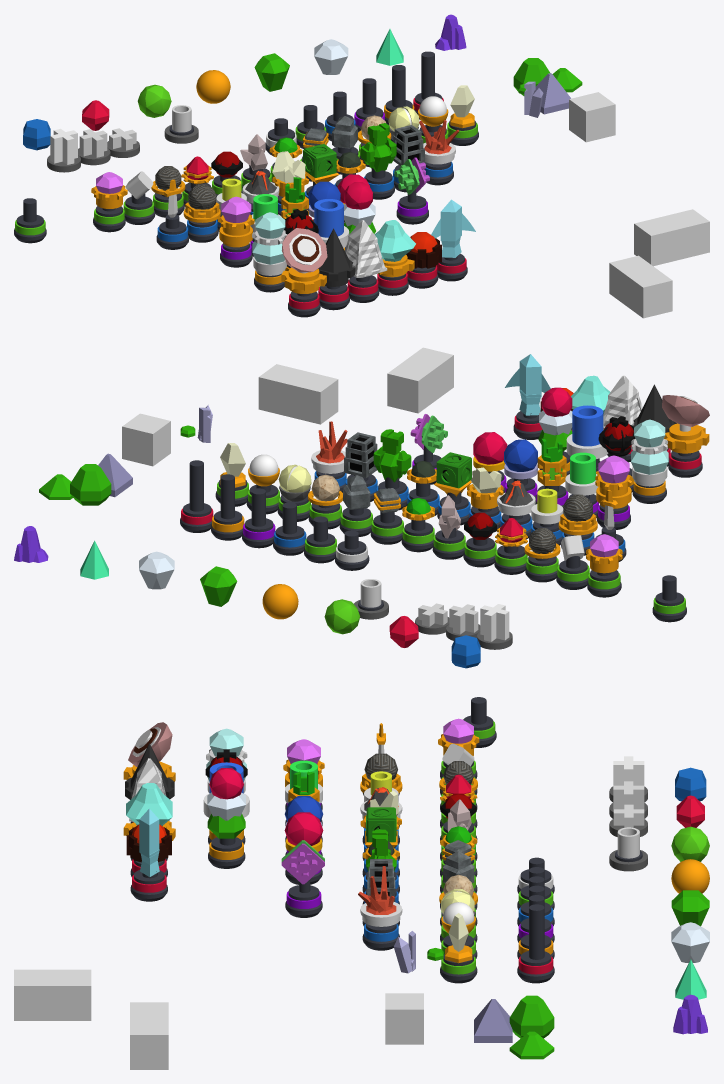
The model's file is tower_elaborately_carved_tourmaline.obj.
The picture shows the model from 3 angles, top to bottom: view 1: azimuth 30°, elevation 25°; view 2: azimuth 150°, elevation 25°; view 3: azimuth 270°, elevation 25°; orthographic projection. The views are drawn at different scales.
Parts seen in each view (by area): view 1: mergedBlocks; view 2: mergedBlocks; view 3: mergedBlocks.
Part boxes in pixels (left/top/right/bottom): mergedBlocks: left=14, top=14, right=709, bottom=318; mergedBlocks: left=14, top=347, right=709, bottom=668; mergedBlocks: left=14, top=697, right=709, bottom=1069.
Bounding box in the file's own units: 19.88 × 3.7 × 18.
Materials: 59 (6 with a texture image).
